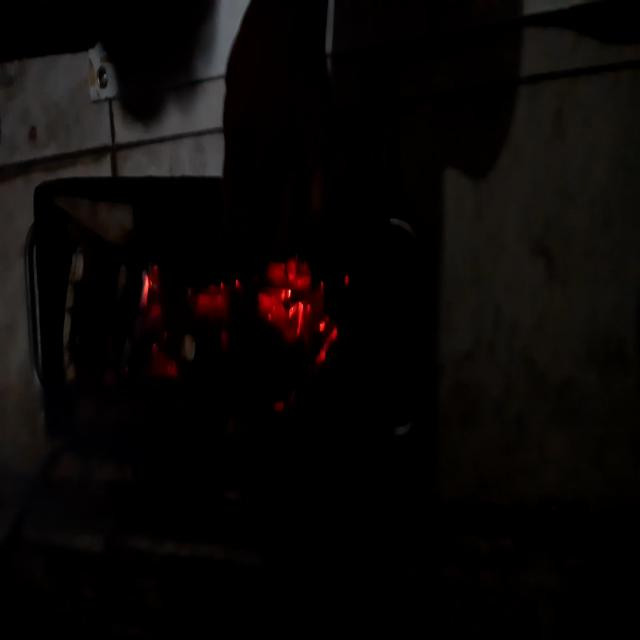Fire: (124, 238, 358, 400)
